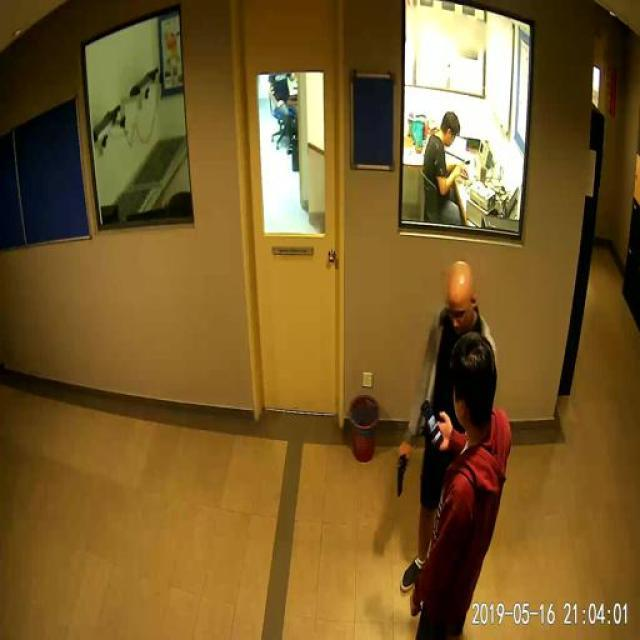Gun: (383, 440, 414, 499)
